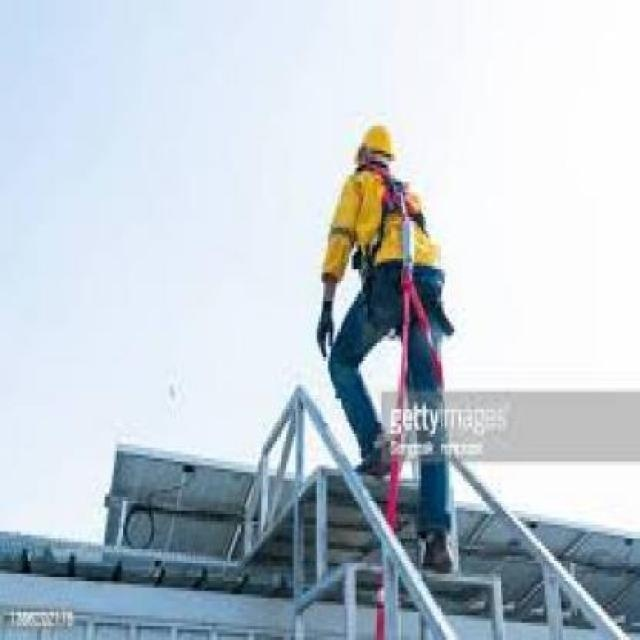Arnes_seguridad: (349, 156, 457, 338)
